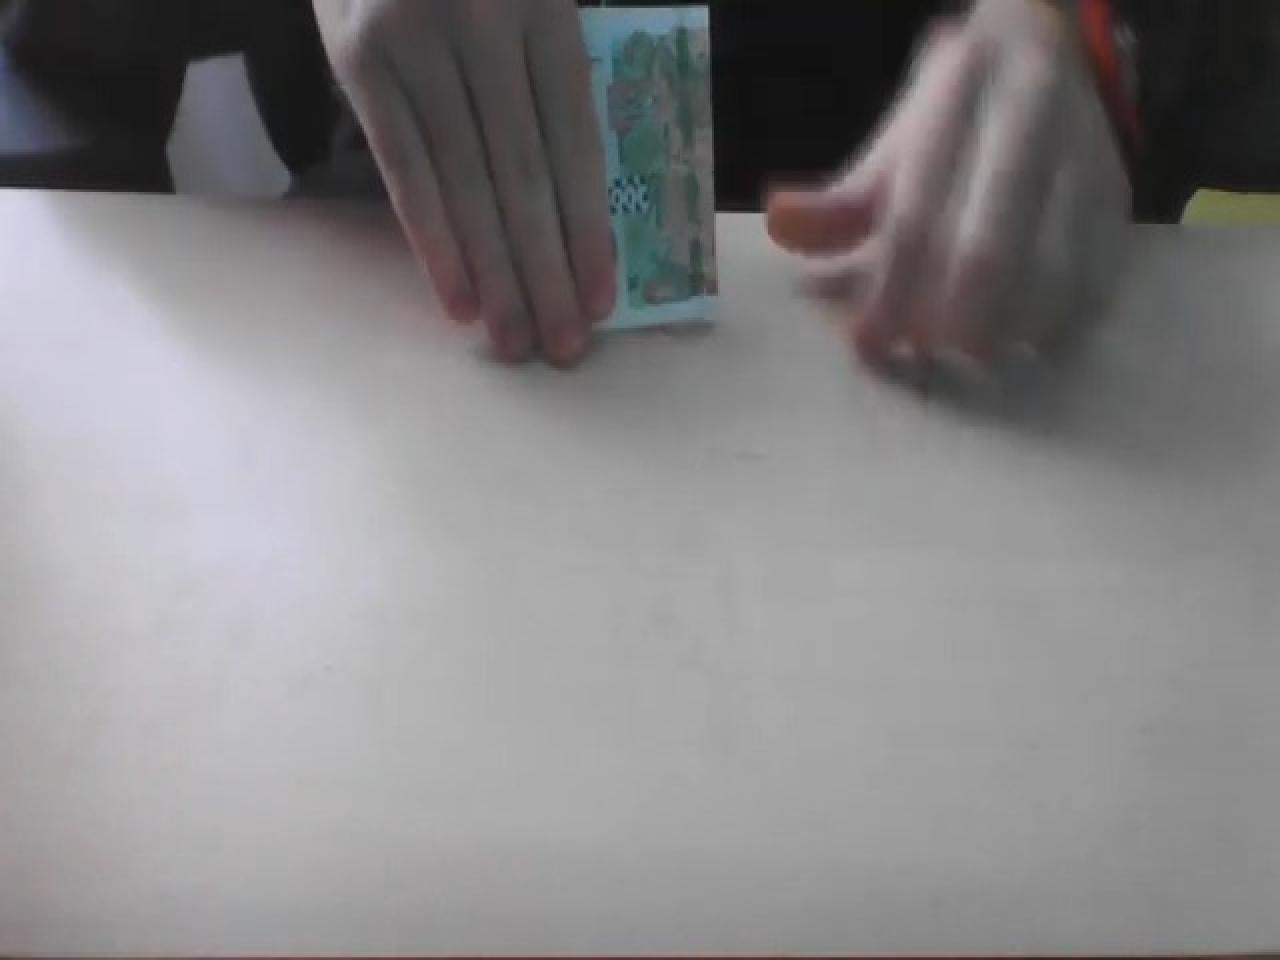100leva: (574, 0, 720, 331)
